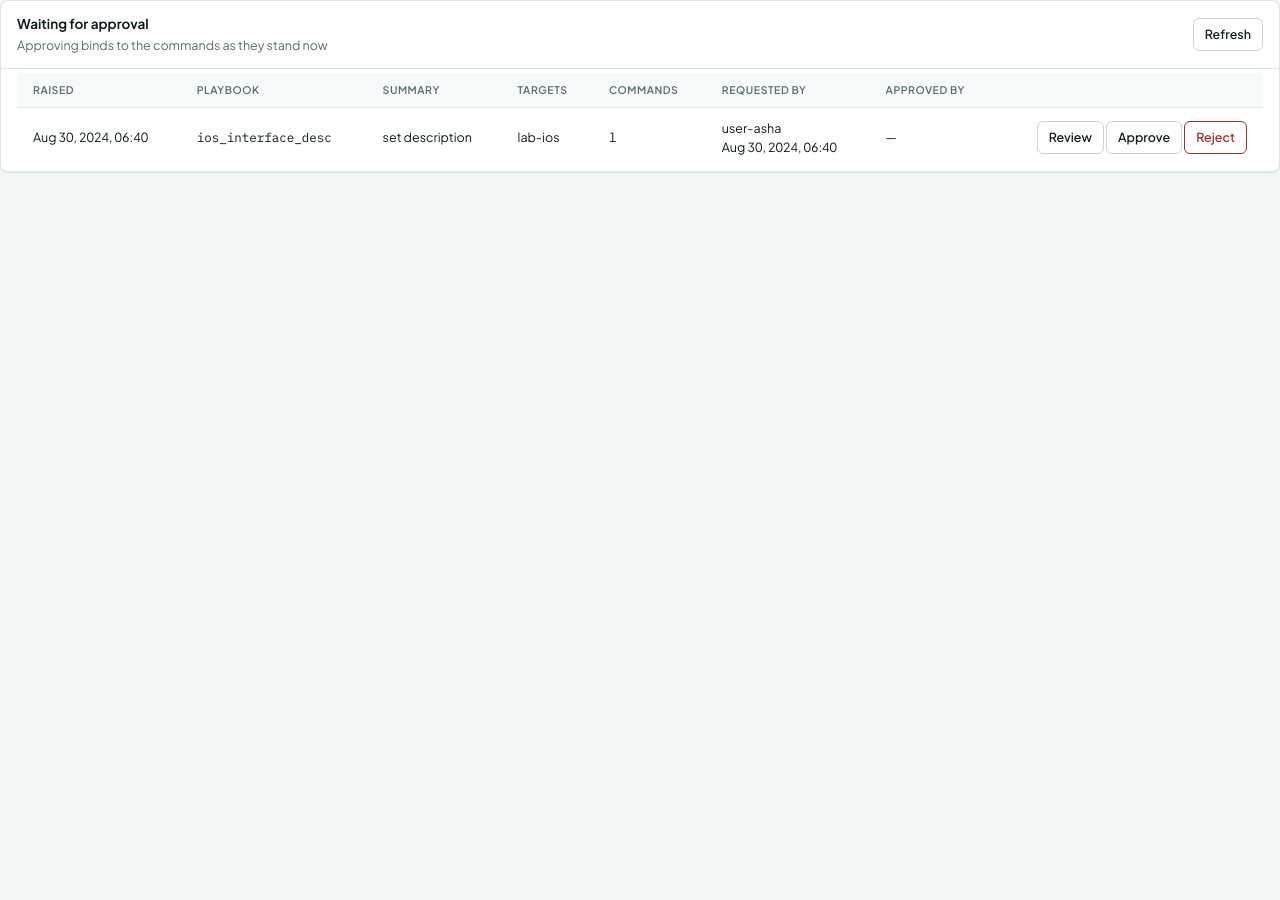
Test case: ChangesPanel self-approval › shows accountability copy for the requester and leaves Approve enabled
Click the button "Approve": (1144, 138) [1106,121,1182,154]
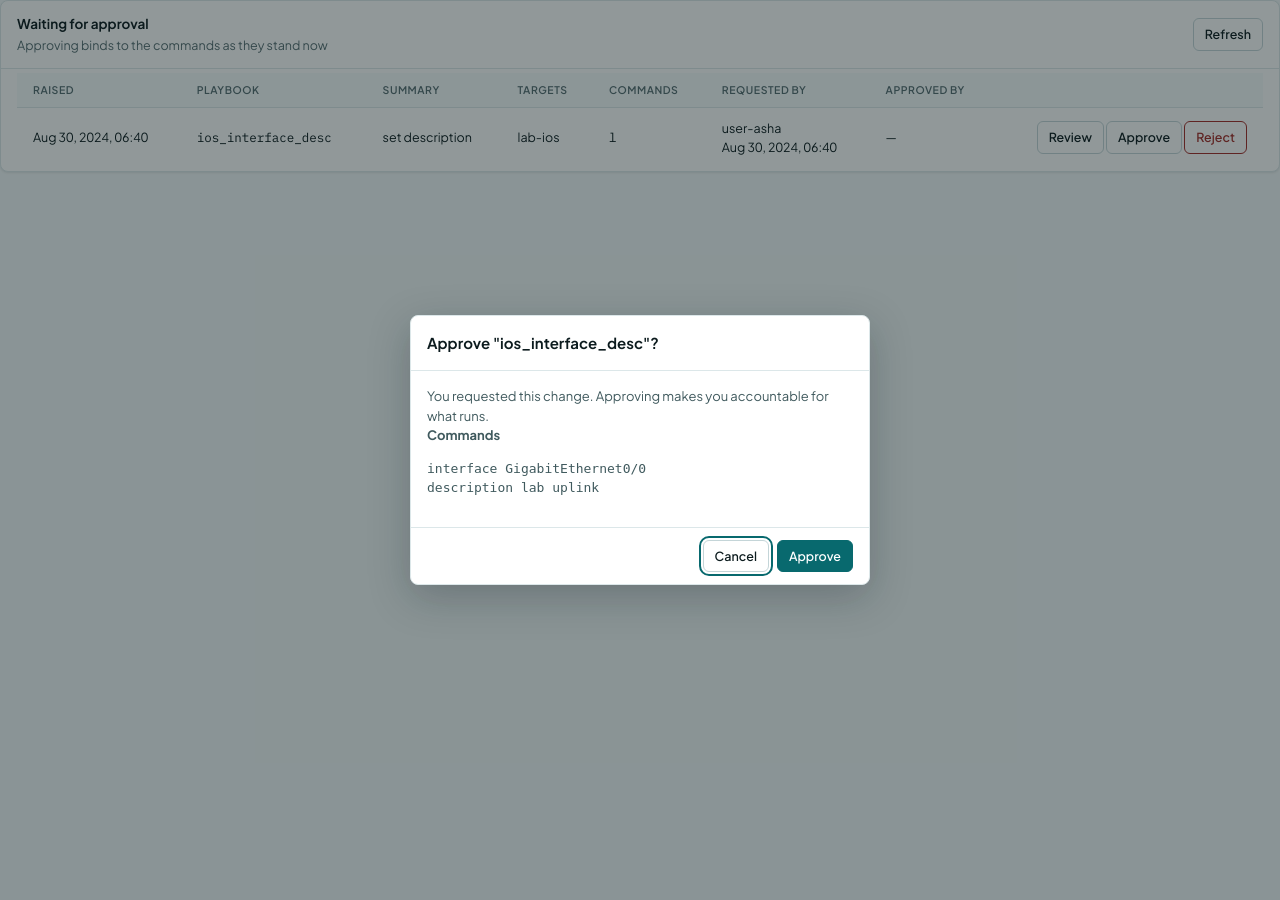
Check: the text "You requested this change. Approving makes you accountable for what runs." is shown, box [427,387,853,426]
Check: the text "interface GigabitEthernet0/0 description lab uplink" is shown, box [427,461,646,495]
Check: the button "Approve" is enabled, box [777,540,853,572]
